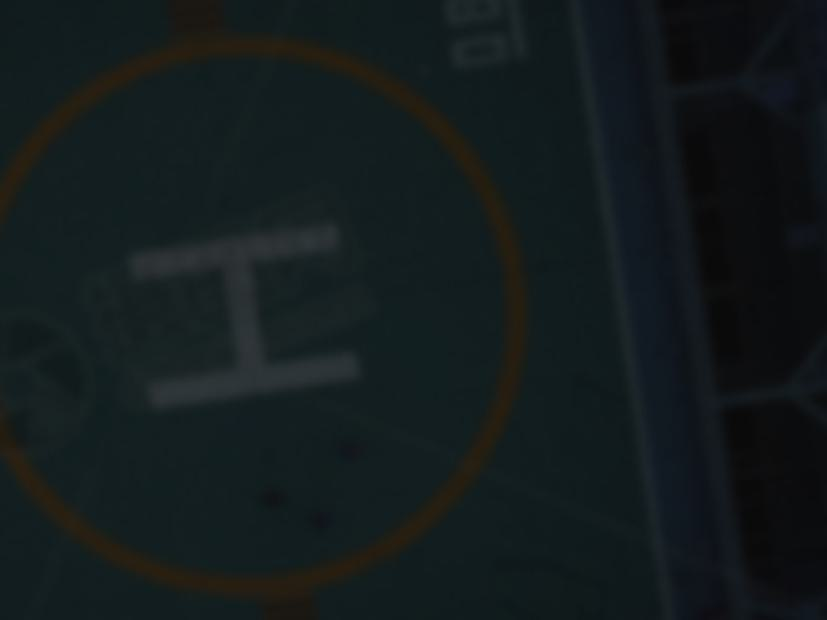Apron: (2, 33, 534, 598)
